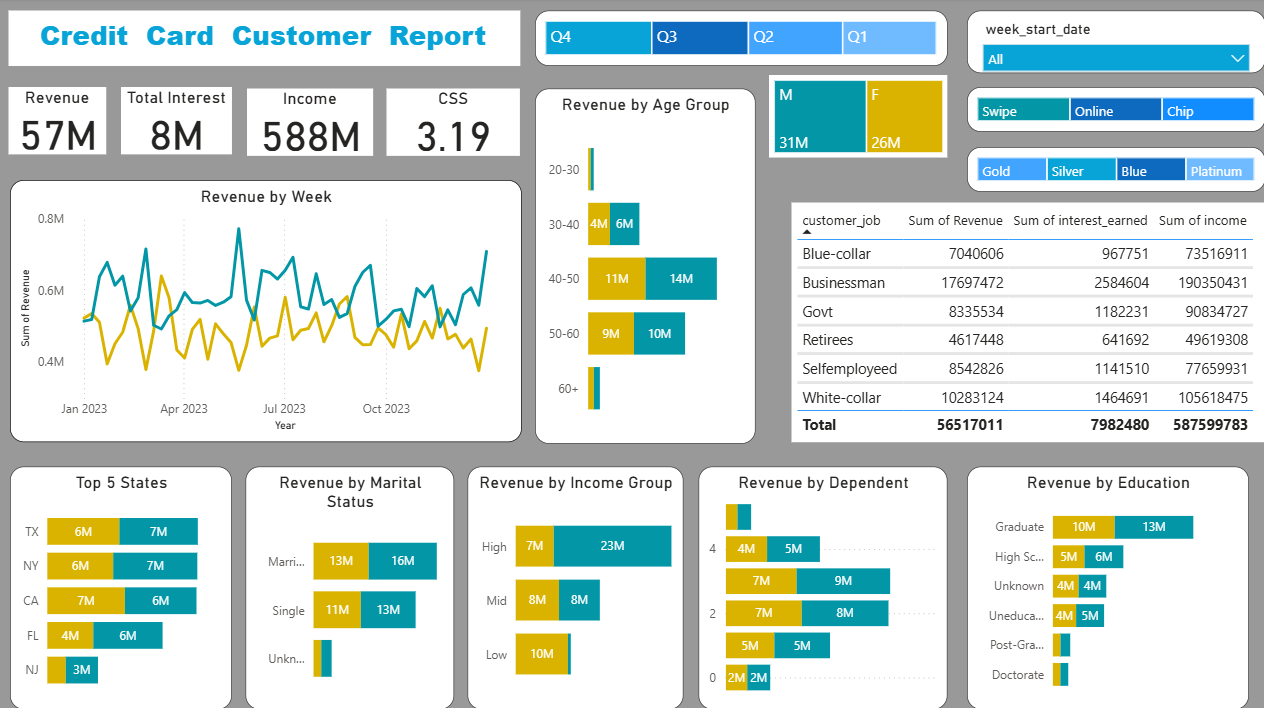

This screenshot's page, from the dashboard's own definition file:
{"tool":"powerbi","page":{"name":"CC Customer","canvas":[1280,720],"ordinal":1},"visuals":[{"type":"slicer","fields":{"Values":["public cc_detail.week_start_date"]},"box":[978.2,13.6,301.3,63.6],"z":0},{"type":"textbox","box":[10.6,13.6,516.3,56],"z":1000},{"type":"treemap","fields":{"Group":["public cc_detail.qtr"],"Values":["Avg(public cc_detail.client_num)"]},"box":[542.1,13.6,416.4,56],"z":2000},{"type":"treemap","fields":{"Group":["public cc_detail.card_category"],"Values":["Avg(public cc_detail.client_num)"]},"box":[978.2,151.4,301.3,45.4],"z":3000},{"type":"barChart","title":"Revenue by Income Group","fields":{"Category":["public cust_detail.IncomeGroup"],"Series":["public cust_detail.gender"],"Y":["Sum(public cc_detail.Revenue)"]},"box":[473.9,473.9,218,245.3],"z":4000},{"type":"tableEx","fields":{"Values":["public cust_detail.customer_job","Sum(public cc_detail.Revenue)","Sum(public cc_detail.interest_earned)","Sum(public cust_detail.income)"]},"box":[801,207.4,478.5,242.3],"z":5000},{"type":"card","title":"Revenue","fields":{"Values":["Sum(public cc_detail.Revenue)"]},"box":[10.6,90.9,98.4,68],"z":6000},{"type":"card","title":"Income","fields":{"Values":["Sum(public cust_detail.income)"]},"box":[251.4,92.4,127.2,68.1],"z":7000},{"type":"card","title":"Total Interest","fields":{"Values":["Sum(public cc_detail.interest_earned)"]},"box":[124.2,90.9,112.1,68],"z":8000},{"type":"card","title":"CSS","fields":{"Values":["Avg(public cust_detail.cust_satisfaction_score)"]},"box":[392.2,92.4,134.8,68.1],"z":9000},{"type":"lineChart","title":"Revenue by Week","fields":{"Category":["public cc_detail.week_start_date.Variation.Date Hierarchy.Year","public cc_detail.week_start_date.Variation.Date Hierarchy.Month","public cc_detail.week_start_date.Variation.Date Hierarchy.Day"],"Series":["public cust_detail.gender"],"Y":["Sum(public cc_detail.Revenue)"]},"box":[12.1,184.7,516.3,265],"z":10000},{"type":"treemap","fields":{"Group":["public cust_detail.gender"],"Values":["Sum(public cc_detail.Revenue)"]},"box":[778.3,78.7,180.2,83.3],"z":11000},{"type":"barChart","title":"Revenue by Age Group","fields":{"Category":["public cust_detail.AgeGroup"],"Series":["public cust_detail.gender"],"Y":["Sum(public cc_detail.Revenue)"]},"box":[542.1,92.4,222.6,358.9],"z":12000},{"type":"barChart","title":"Revenue by Dependent","fields":{"Category":["public cust_detail.dependent_count"],"Series":["public cust_detail.gender"],"Y":["Sum(public cc_detail.Revenue)"]},"box":[707.1,473.9,251.4,245.3],"z":13000},{"type":"barChart","title":"Revenue by Education","fields":{"Category":["public cust_detail.education_level"],"Series":["public cust_detail.gender"],"Y":["Sum(public cc_detail.Revenue)"]},"box":[978.2,473.9,284.7,245.3],"z":14000},{"type":"barChart","title":"Top 5 States","fields":{"Category":["public cust_detail.state_cd"],"Series":["public cust_detail.gender"],"Y":["Sum(public cc_detail.Revenue)"]},"box":[12.1,473.9,224.1,245.3],"z":15000},{"type":"barChart","title":"Revenue by Marital Status","fields":{"Category":["public cust_detail.marital_status"],"Series":["public cust_detail.gender"],"Y":["Sum(public cc_detail.Revenue)"]},"box":[249.8,473.9,210.5,245.3],"z":16000},{"type":"treemap","fields":{"Group":["public cc_detail.use_chip"],"Values":["Avg(public cc_detail.client_num)"]},"box":[978.2,90.9,301.3,45.4],"z":17000}]}

Visuals, with their boxes in screenshot pixels (x1, y1, x2, y2), scaled from the page's 1280x720 canvas onto the 1264x708 screenshot:
slicer - public cc_detail.week_start_date: <bbox>966, 13, 1263, 76</bbox>
textbox: <bbox>10, 13, 520, 68</bbox>
treemap - public cc_detail.qtr x Avg(public cc_detail.client_num): <bbox>535, 13, 947, 68</bbox>
treemap - public cc_detail.card_category x Avg(public cc_detail.client_num): <bbox>966, 149, 1263, 194</bbox>
"Revenue by Income Group" barChart: <bbox>468, 466, 683, 707</bbox>
tableEx - public cust_detail.customer_job x Sum(public cc_detail.Revenue): <bbox>791, 204, 1263, 442</bbox>
"Revenue" card: <bbox>10, 89, 108, 156</bbox>
"Income" card: <bbox>248, 91, 374, 158</bbox>
"Total Interest" card: <bbox>123, 89, 233, 156</bbox>
"CSS" card: <bbox>387, 91, 520, 158</bbox>
"Revenue by Week" lineChart: <bbox>12, 182, 522, 442</bbox>
treemap - public cust_detail.gender x Sum(public cc_detail.Revenue): <bbox>769, 77, 947, 159</bbox>
"Revenue by Age Group" barChart: <bbox>535, 91, 755, 444</bbox>
"Revenue by Dependent" barChart: <bbox>698, 466, 947, 707</bbox>
"Revenue by Education" barChart: <bbox>966, 466, 1247, 707</bbox>
"Top 5 States" barChart: <bbox>12, 466, 233, 707</bbox>
"Revenue by Marital Status" barChart: <bbox>247, 466, 455, 707</bbox>
treemap - public cc_detail.use_chip x Avg(public cc_detail.client_num): <bbox>966, 89, 1263, 134</bbox>
